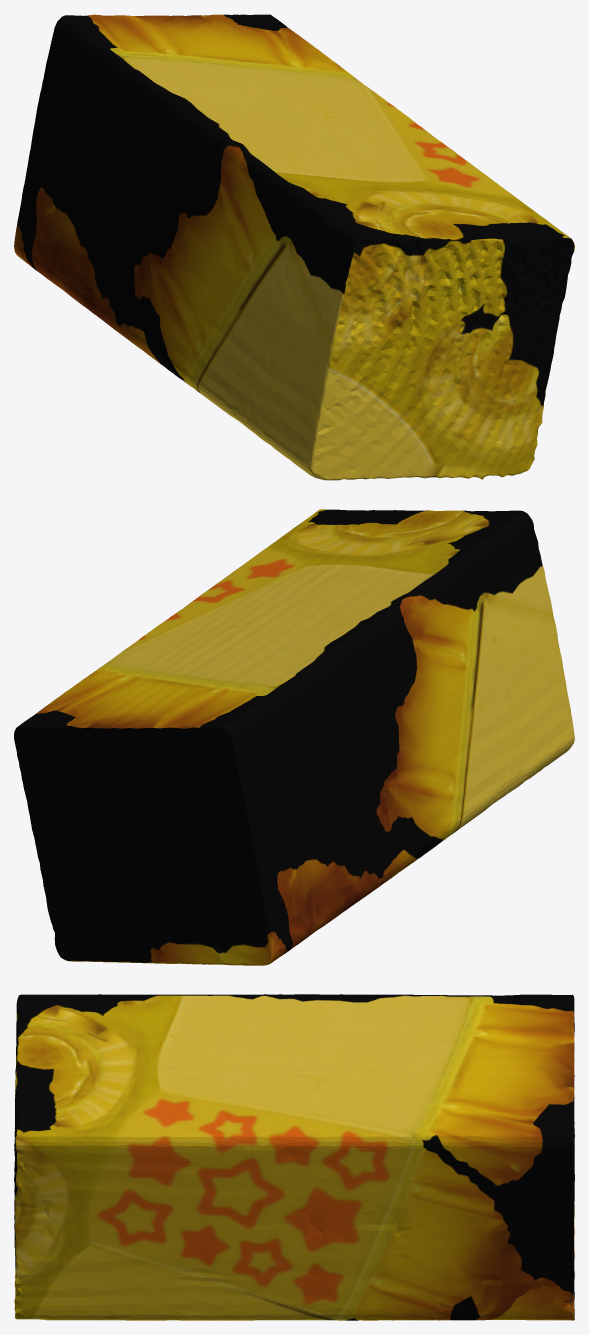
3 views of the same model, one above another, from view 1: azimuth 30°, elevation 25°; view 2: azimuth 150°, elevation 25°; view 3: azimuth 270°, elevation 25° (orthographic). The views are drawn at different scales.
Parts seen in each view (by area): view 1: node; view 2: node; view 3: node.
Boxes of the visible parts, bbox=[...] form: node: bbox=[14, 14, 574, 480]; node: bbox=[14, 509, 574, 965]; node: bbox=[14, 994, 574, 1320].
Size of the model in its own units: 0.1039 by 0.1035 by 0.206.
